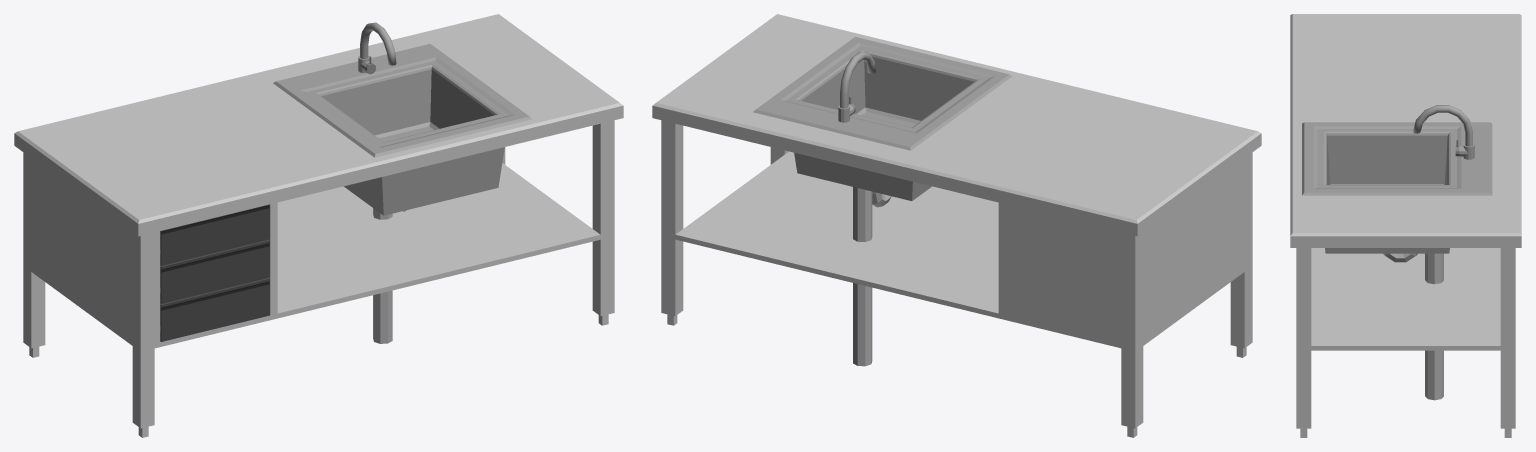
The model's file is Sink.fbx.
3 renders of one model, left to right at view 1: azimuth 30°, elevation 25°; view 2: azimuth 150°, elevation 25°; view 3: azimuth 270°, elevation 25°, orthographic. The views are drawn at different scales.
Parts seen in each view (by area): view 1: TableSinkPipe, TableSinkPipe.001, Drawer2, Drawer3, Drawer; view 2: TableSinkPipe, TableSinkPipe.001; view 3: TableSinkPipe, TableSinkPipe.001.
Boxes of the visible parts, x1,y1,x2,y2 form: TableSinkPipe: [14, 14, 623, 437]; TableSinkPipe.001: [273, 22, 532, 343]; Drawer2: [160, 239, 269, 303]; Drawer3: [160, 278, 269, 341]; Drawer: [160, 204, 269, 265]; TableSinkPipe: [652, 14, 1261, 437]; TableSinkPipe.001: [753, 37, 1012, 366]; TableSinkPipe: [1290, 14, 1521, 437]; TableSinkPipe.001: [1302, 105, 1492, 400].
Size of the model in its own units: 341 by 209 by 151.
